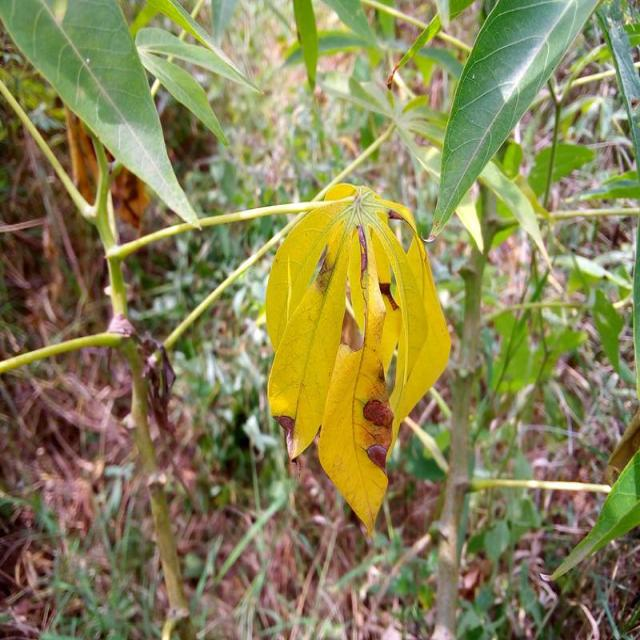cassava leaf: (264, 180, 451, 538), (0, 0, 201, 231), (426, 0, 598, 243)
